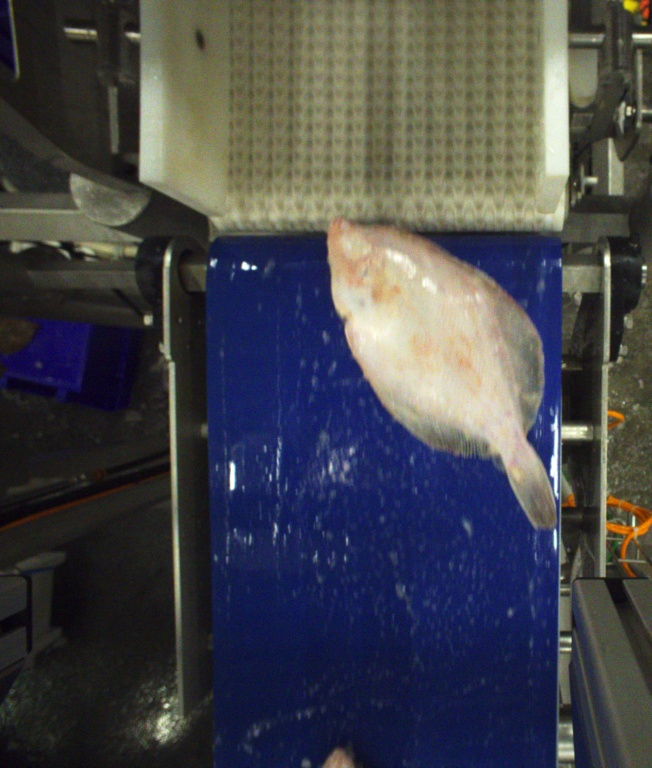PLE: (327, 216, 554, 534)
